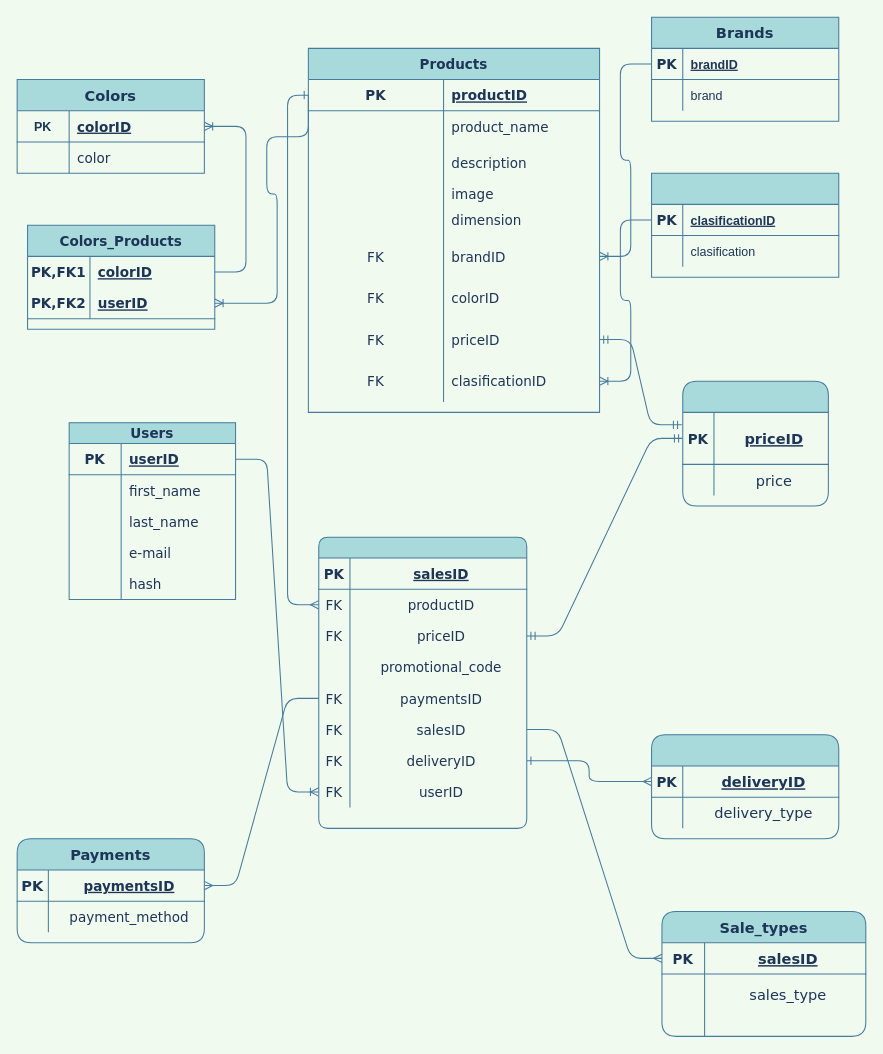
This 883x1054 diagram has some shape labels left out. Each missing label, with the box of its shape:
clasifications: (651, 172, 839, 277)
Deliveries: (651, 734, 839, 839)
Prices: (682, 380, 828, 506)
Sales_detail: (318, 536, 527, 828)
